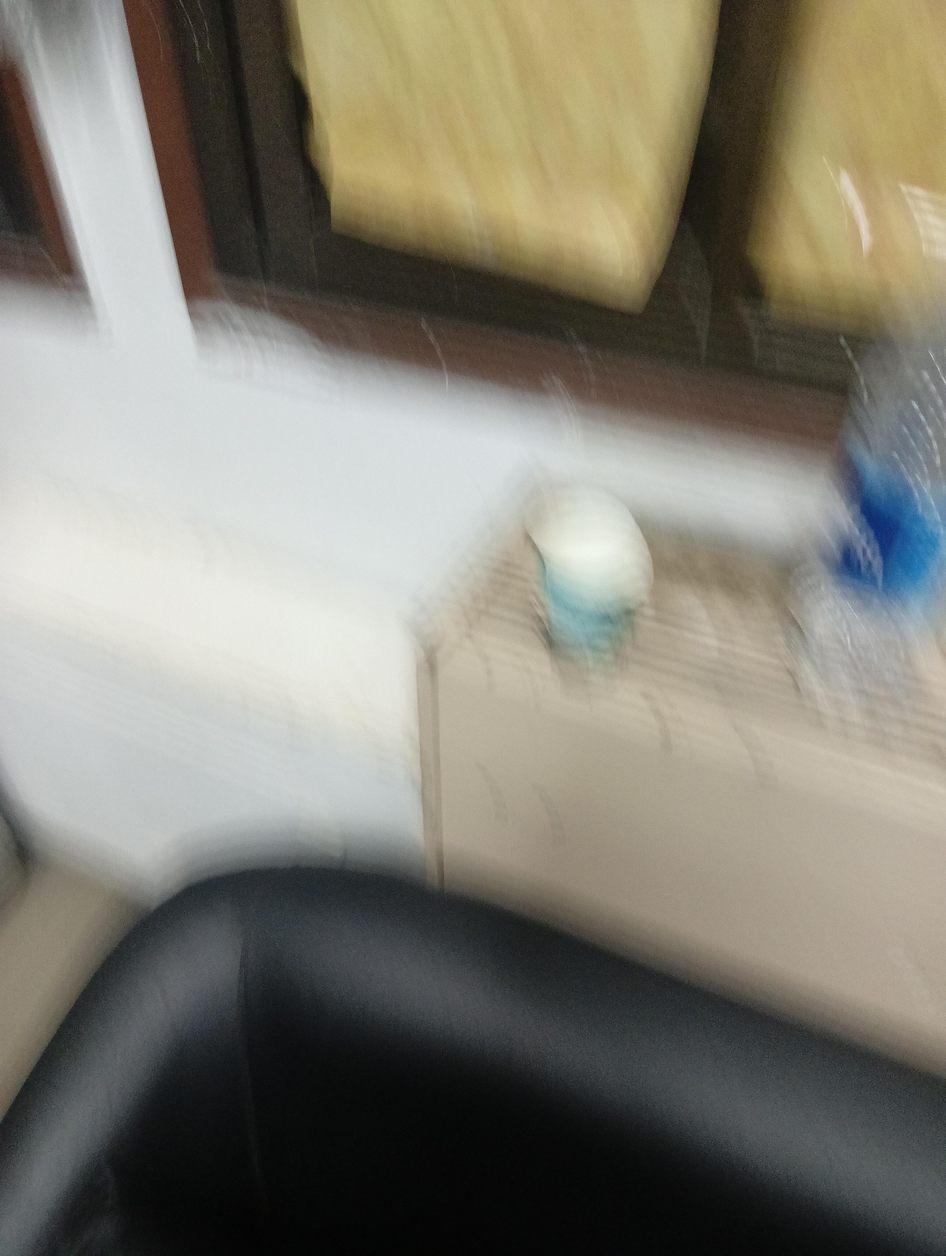Bottle: (789, 322, 946, 712)
cup: (527, 489, 653, 655), (546, 503, 637, 593)
